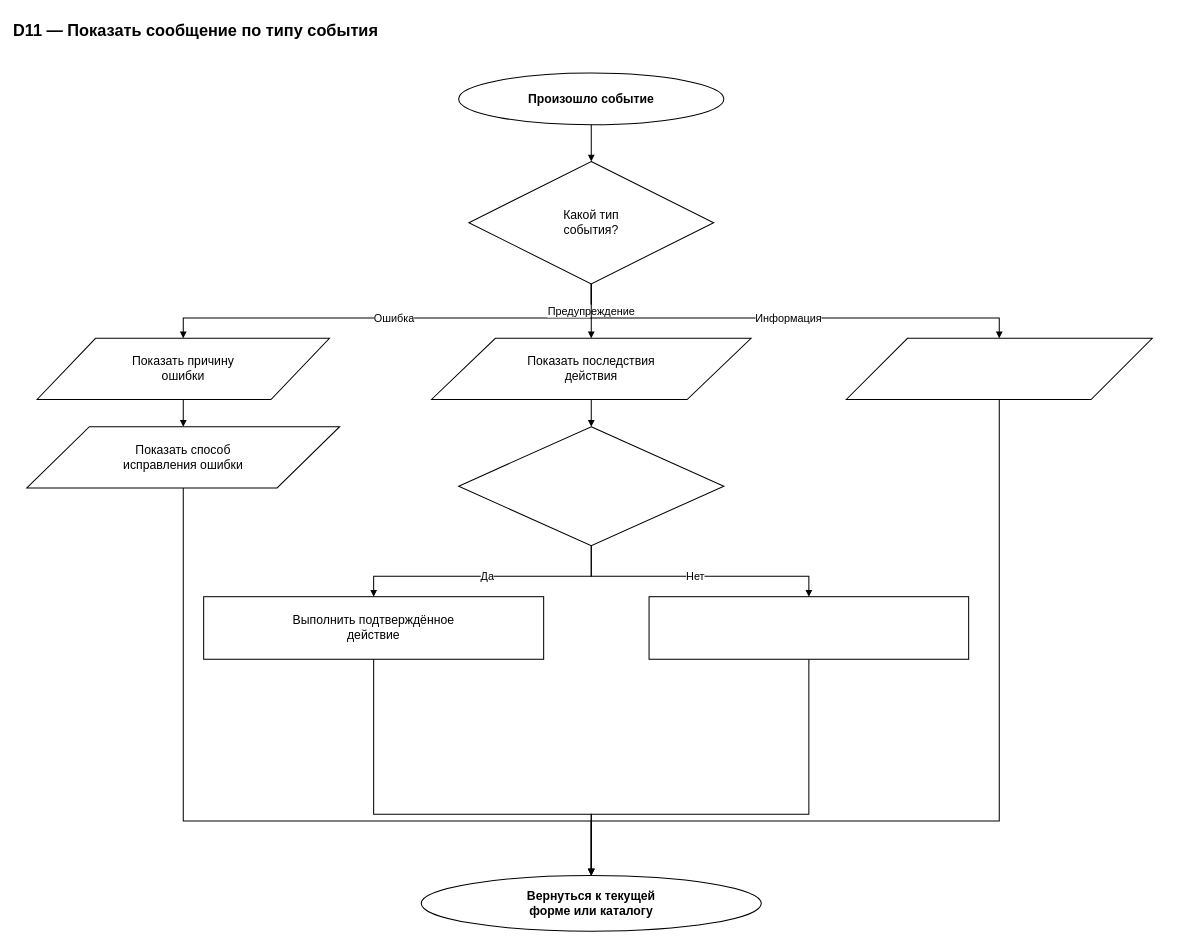
Some shapes in this 1182 by 943 pixel diagram are drawn without their labels. The shapes that lost their labels are listed below. From the top down, each one's box as (x1, y1, x2, y2) in pixels, then its label:
(845, 337, 1152, 400): Показать результат успешной операции
(458, 426, 724, 546): Нужно подтверждение?
(648, 596, 969, 659): Безопасно отменить действие
